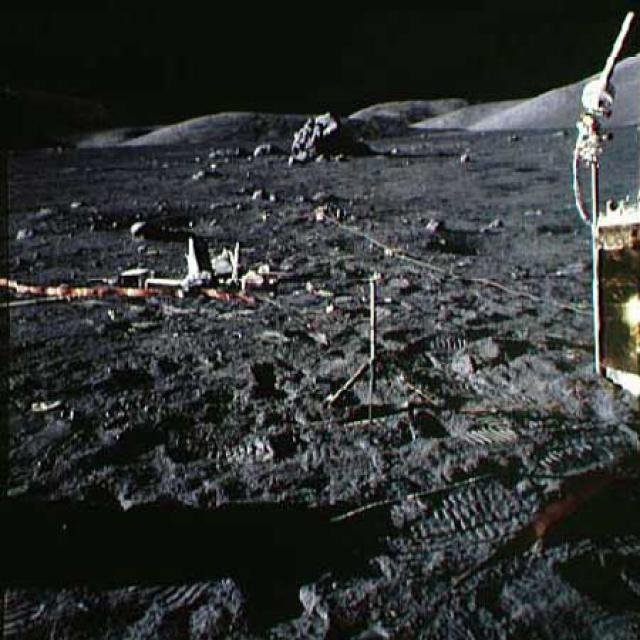artifact: (543, 7, 639, 548), (101, 216, 272, 311)
crater: (50, 197, 255, 234)
rock: (289, 109, 359, 167), (254, 141, 286, 161), (208, 145, 245, 159)
